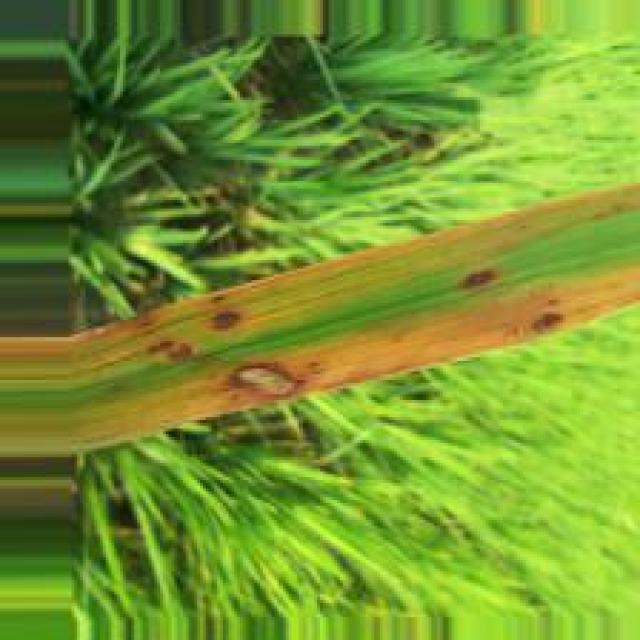Rice Tungro: (207, 264, 640, 410), (0, 291, 248, 361)
